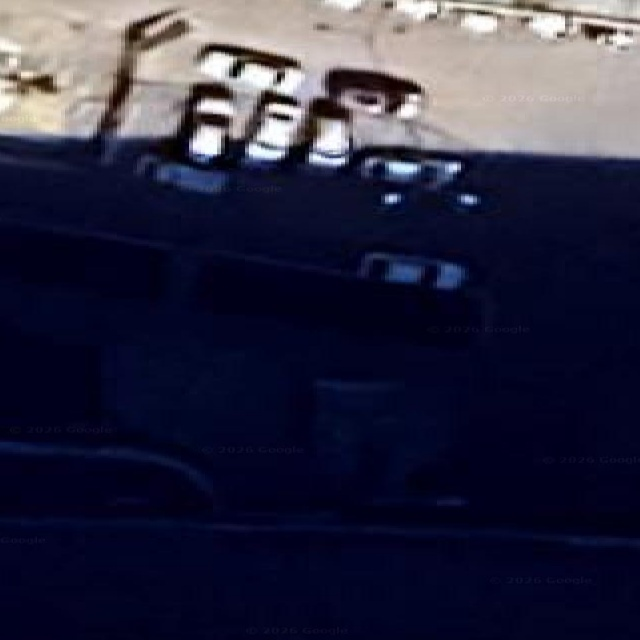car: (2, 437, 216, 519), (136, 83, 235, 192), (350, 145, 480, 211), (196, 44, 303, 94), (324, 68, 424, 120), (355, 145, 464, 188), (241, 91, 303, 163), (357, 252, 467, 289), (187, 84, 233, 163), (306, 98, 352, 167), (0, 37, 20, 112), (582, 23, 633, 51), (527, 12, 577, 39), (340, 89, 387, 115), (393, 0, 440, 20), (0, 37, 22, 75), (460, 12, 499, 32), (595, 32, 633, 49), (447, 192, 480, 211), (0, 77, 16, 112), (323, 0, 364, 9)
